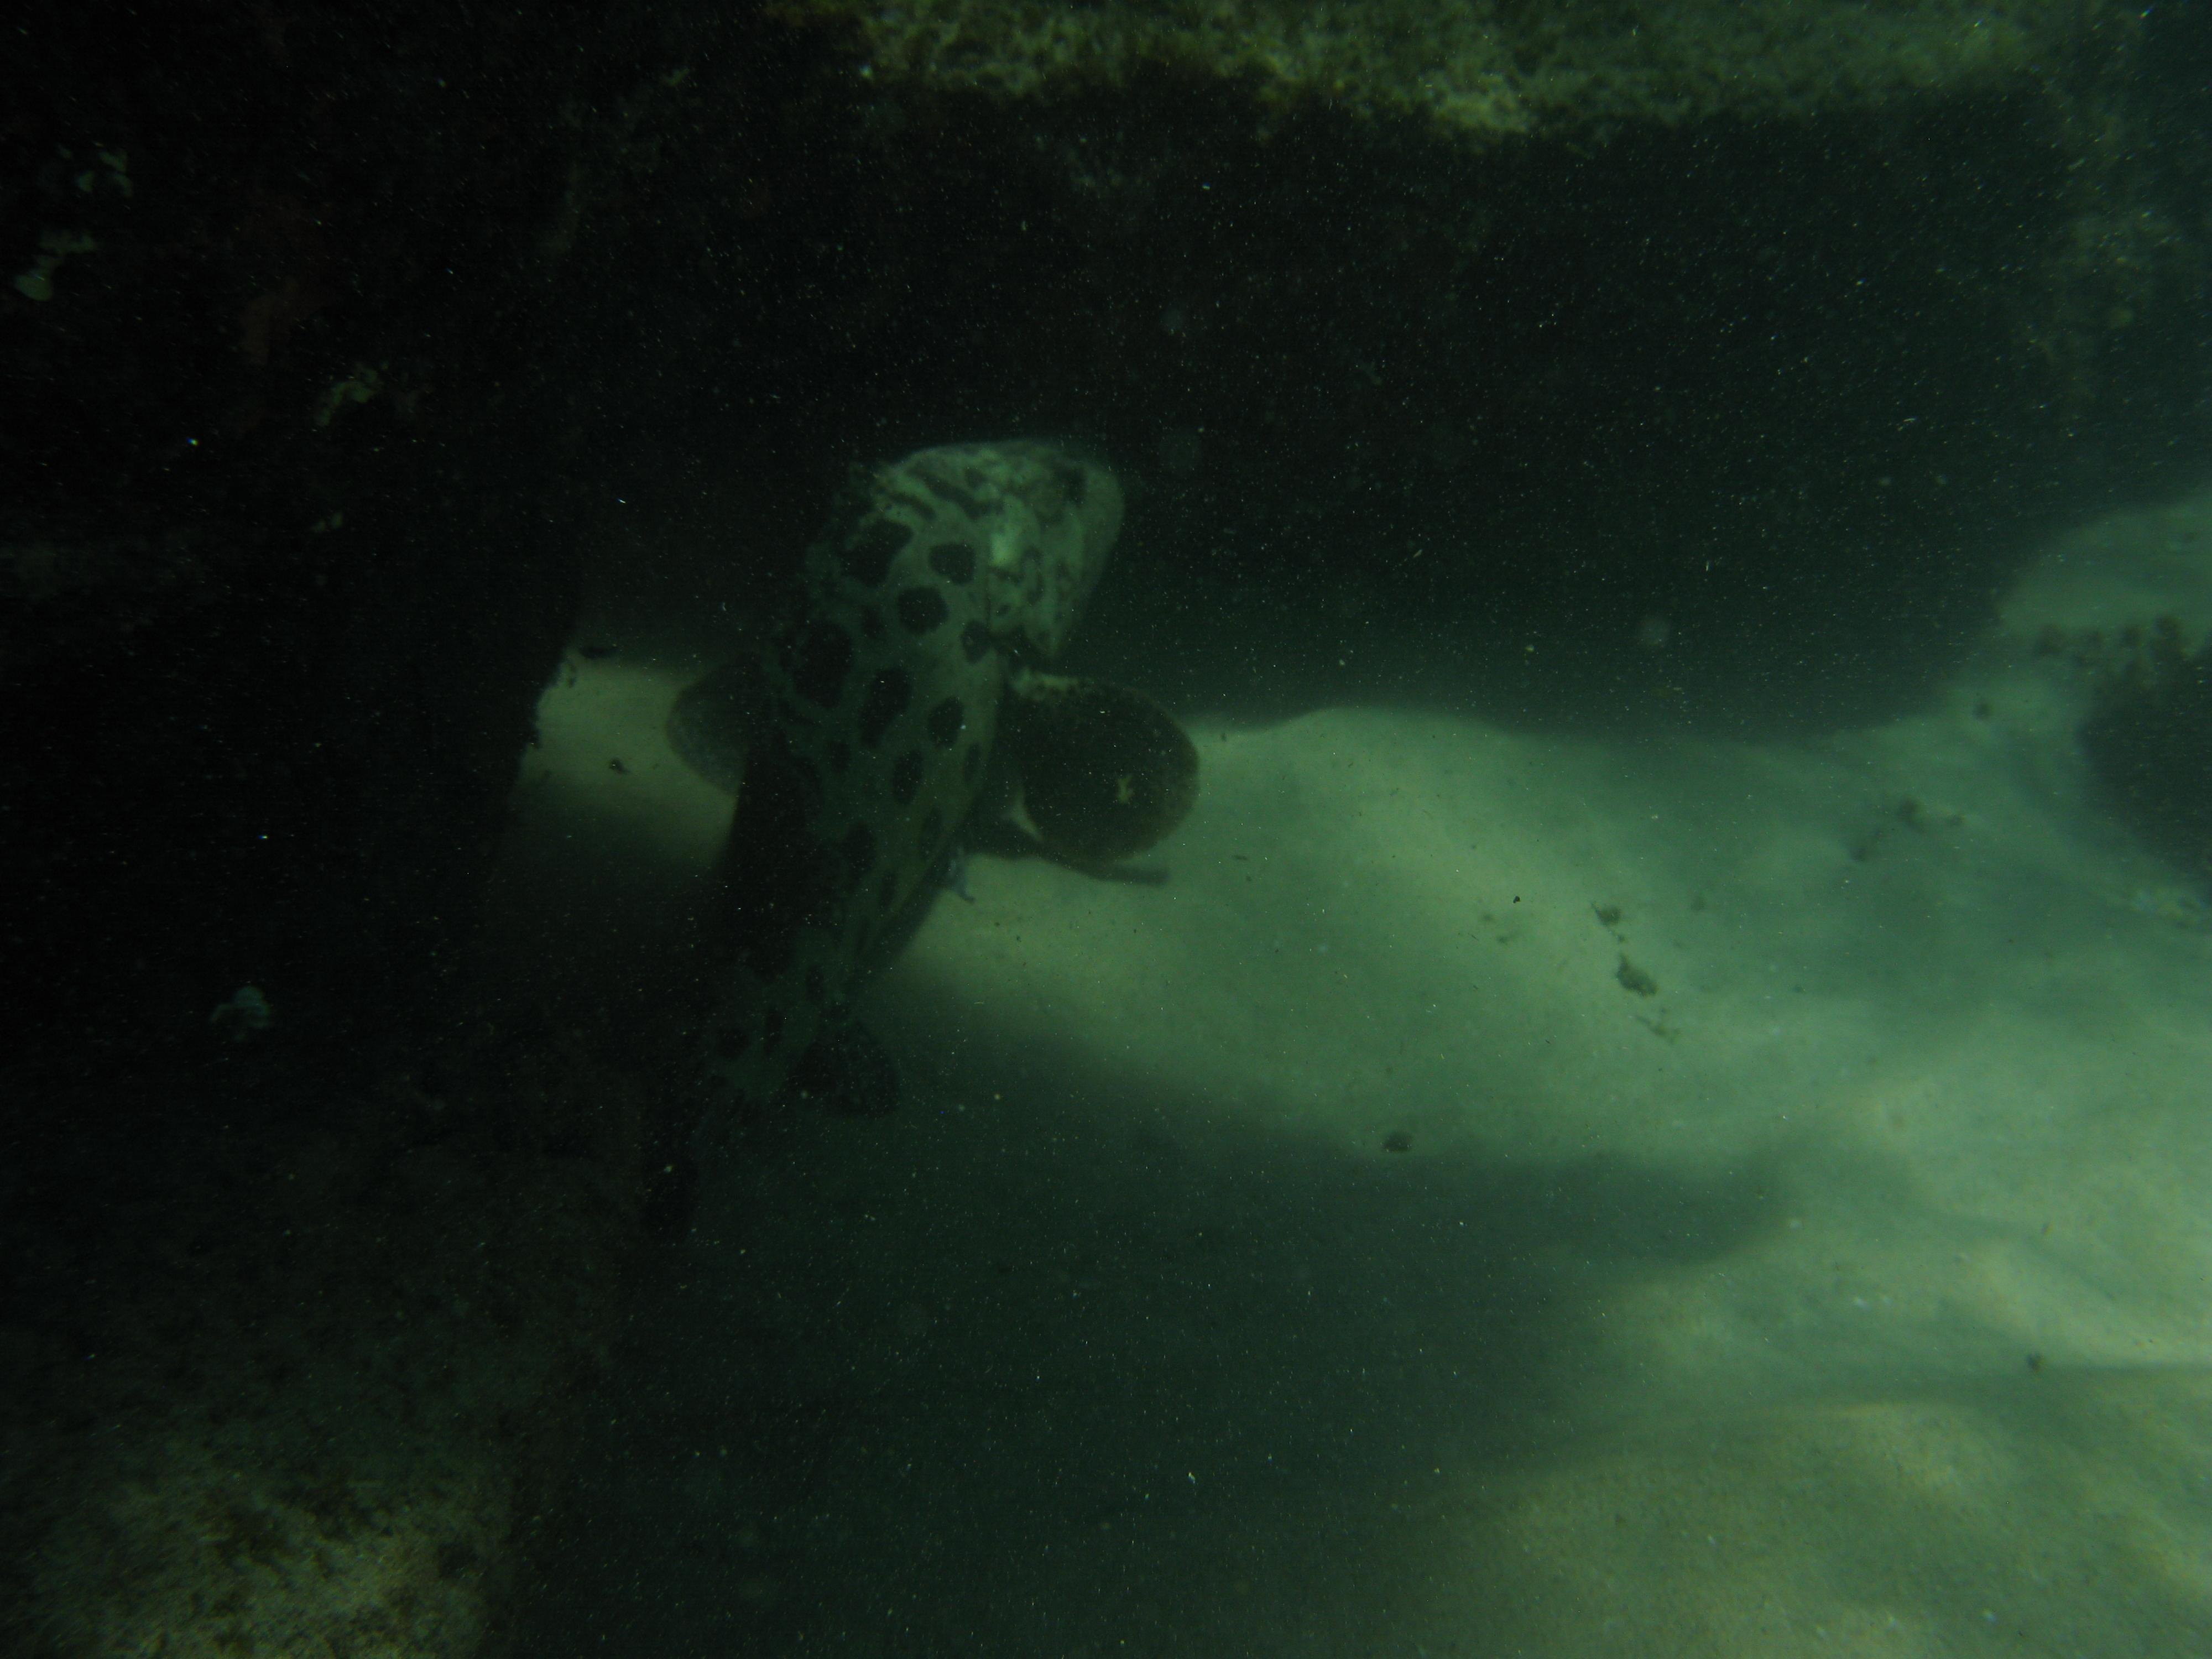Fish: (526, 387, 1242, 1244)
